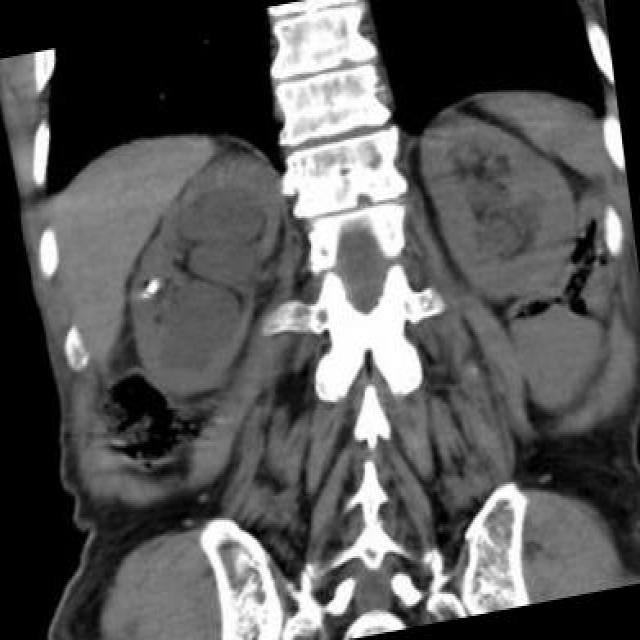Tas_Var: (142, 278, 160, 296), (137, 290, 149, 304)
